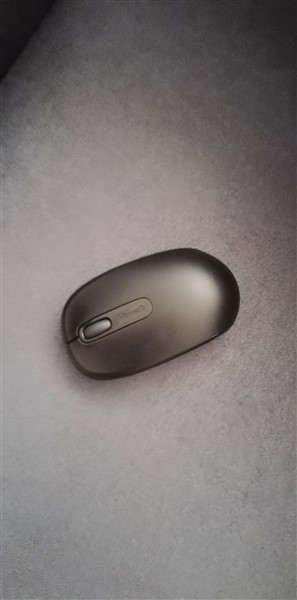mouse: (55, 243, 244, 380)
